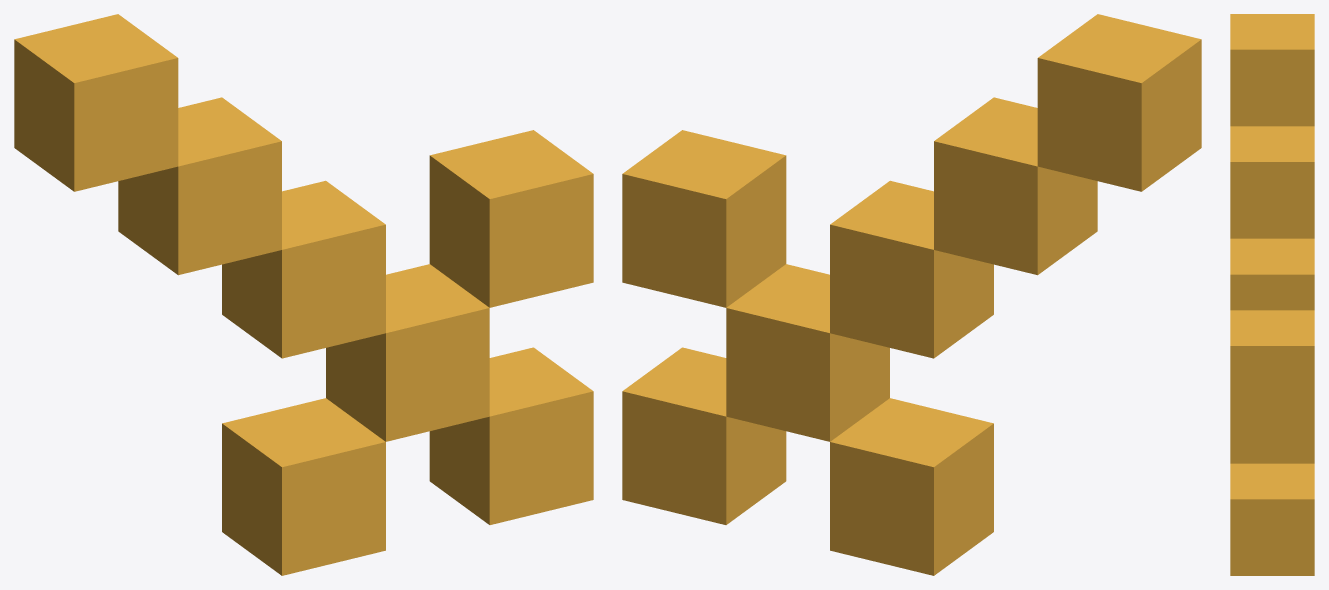
File: Knife-Orange.vox.obj
3 renders of one model, left to right at view 1: azimuth 30°, elevation 25°; view 2: azimuth 150°, elevation 25°; view 3: azimuth 270°, elevation 25°, orthographic. The views are drawn at different scales.
Size of the model in its own units: 0.5 by 0.5 by 0.1.
Materials: 1 (1 with a texture image).
